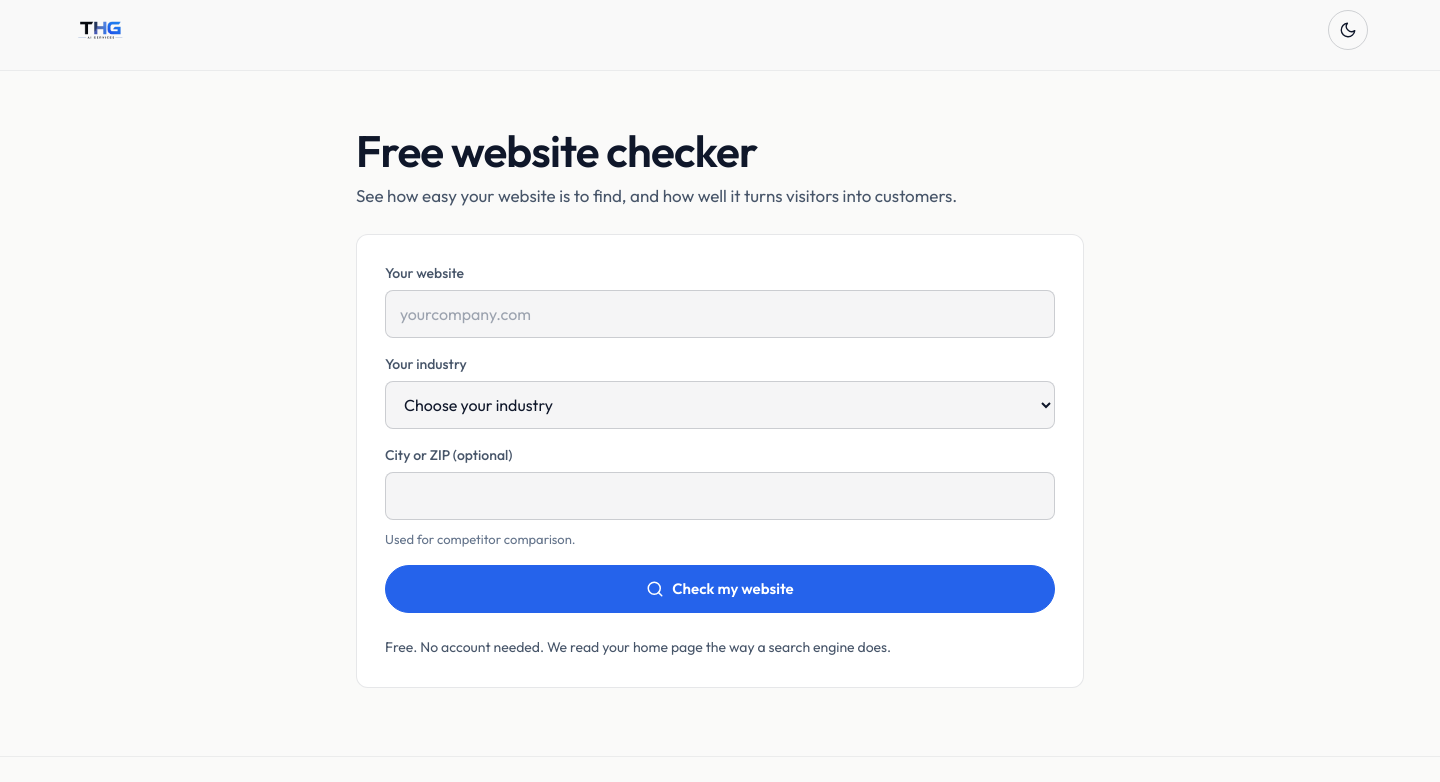
Scenario: WebsiteChecker page › start and grades › runs a scan with the chosen profile and shows the three grades, counts and categories only
Type "30189" into the field labelled "City or ZIP (optional)".
click(720, 496); type("30189")  # box [385,472,1055,520]
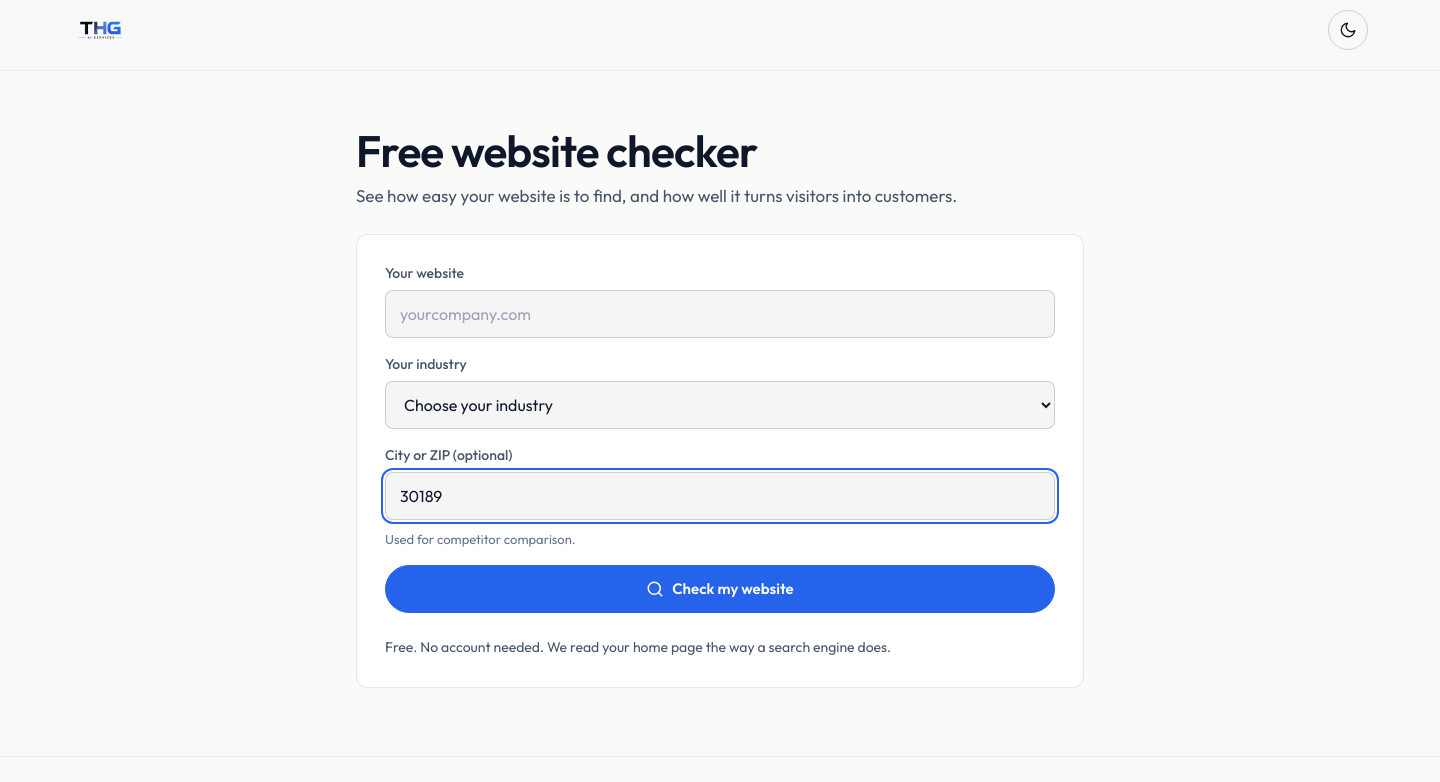
Type "example.com" into the field labelled "Your website".
click(720, 314); type("example.com")  # box [385,290,1055,338]
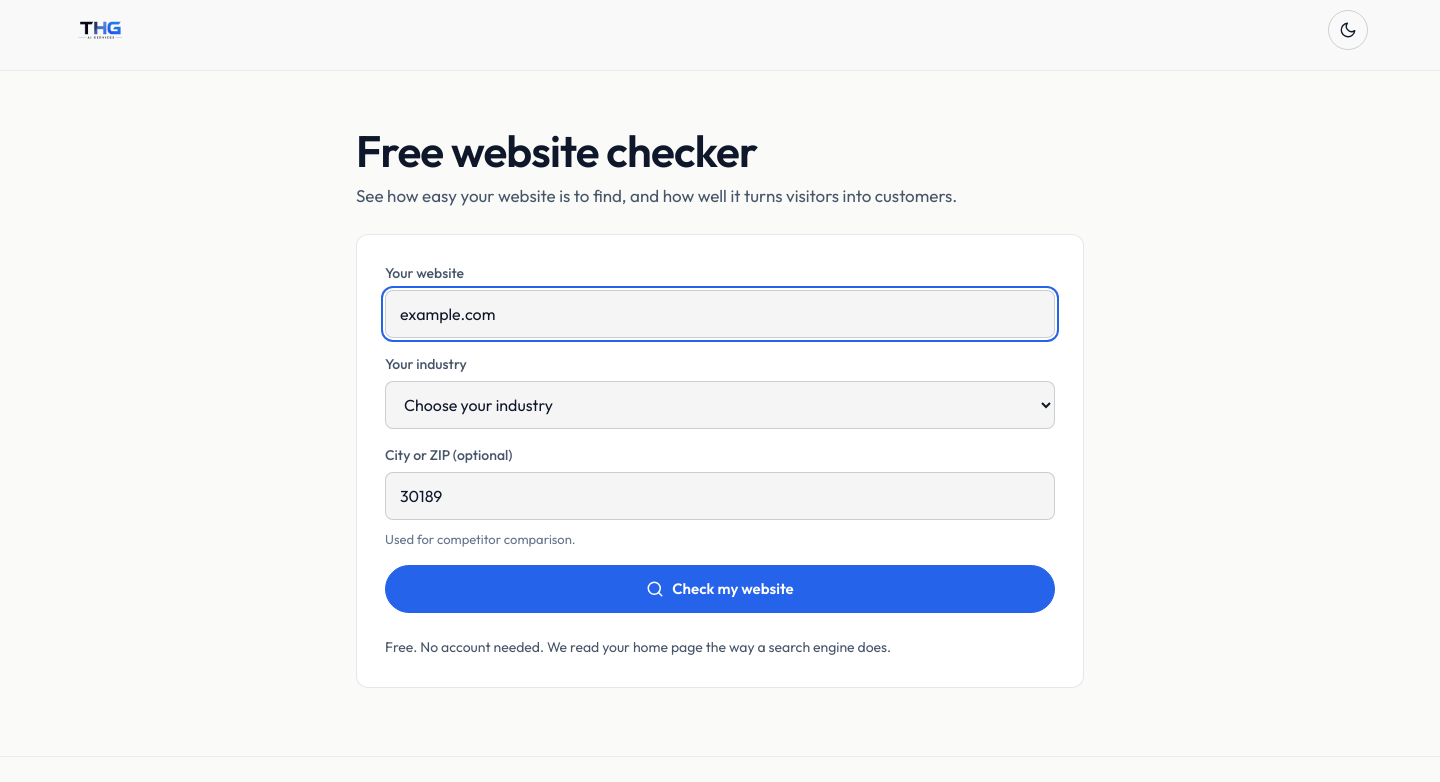
Select "Health and wellness (dental, medical, chiropractic, therapy, fitness, salon)" in the dropdown labelled "Your industry" at (720, 405), box [385,381,1055,429]
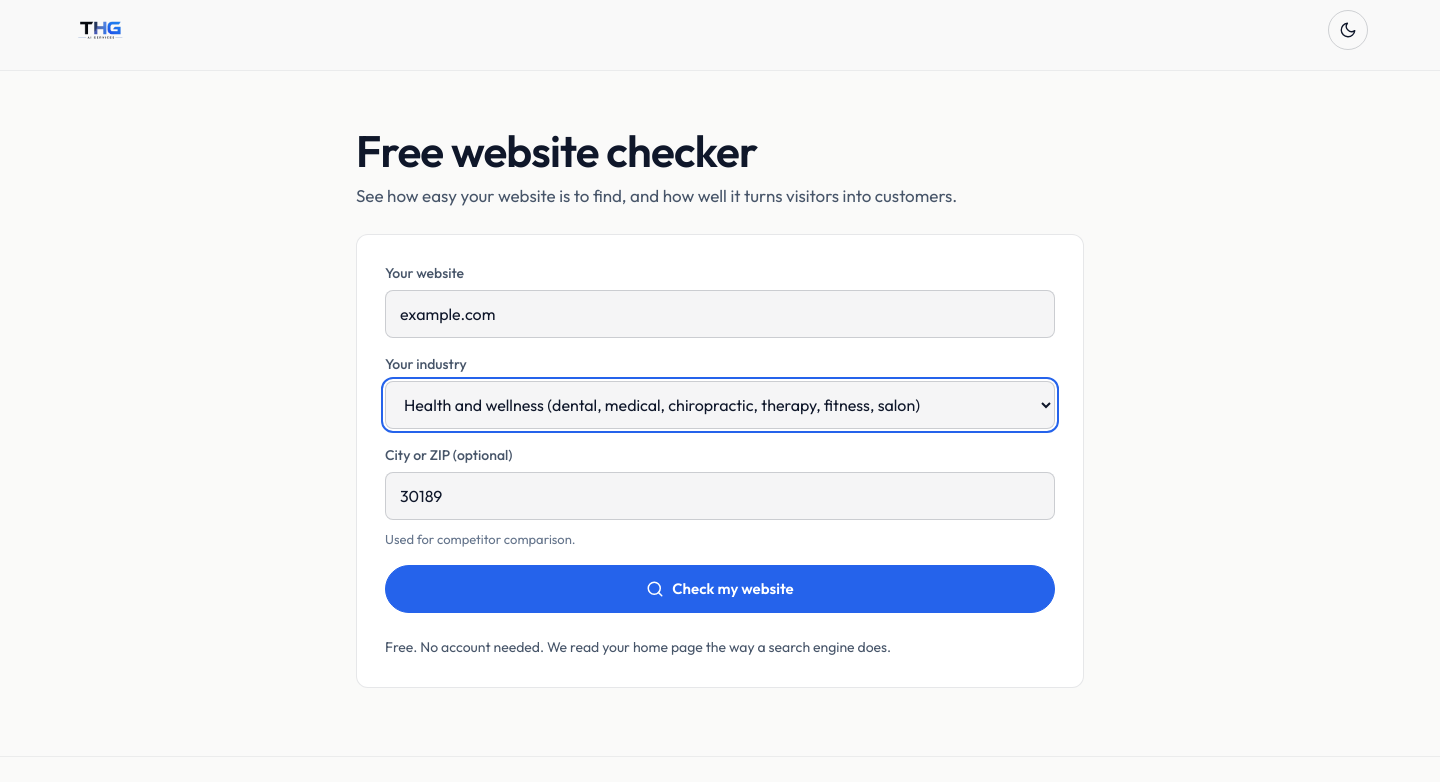
Click the button "Check my website".
click(720, 589)  # box [385,565,1055,613]
(page scrolled)
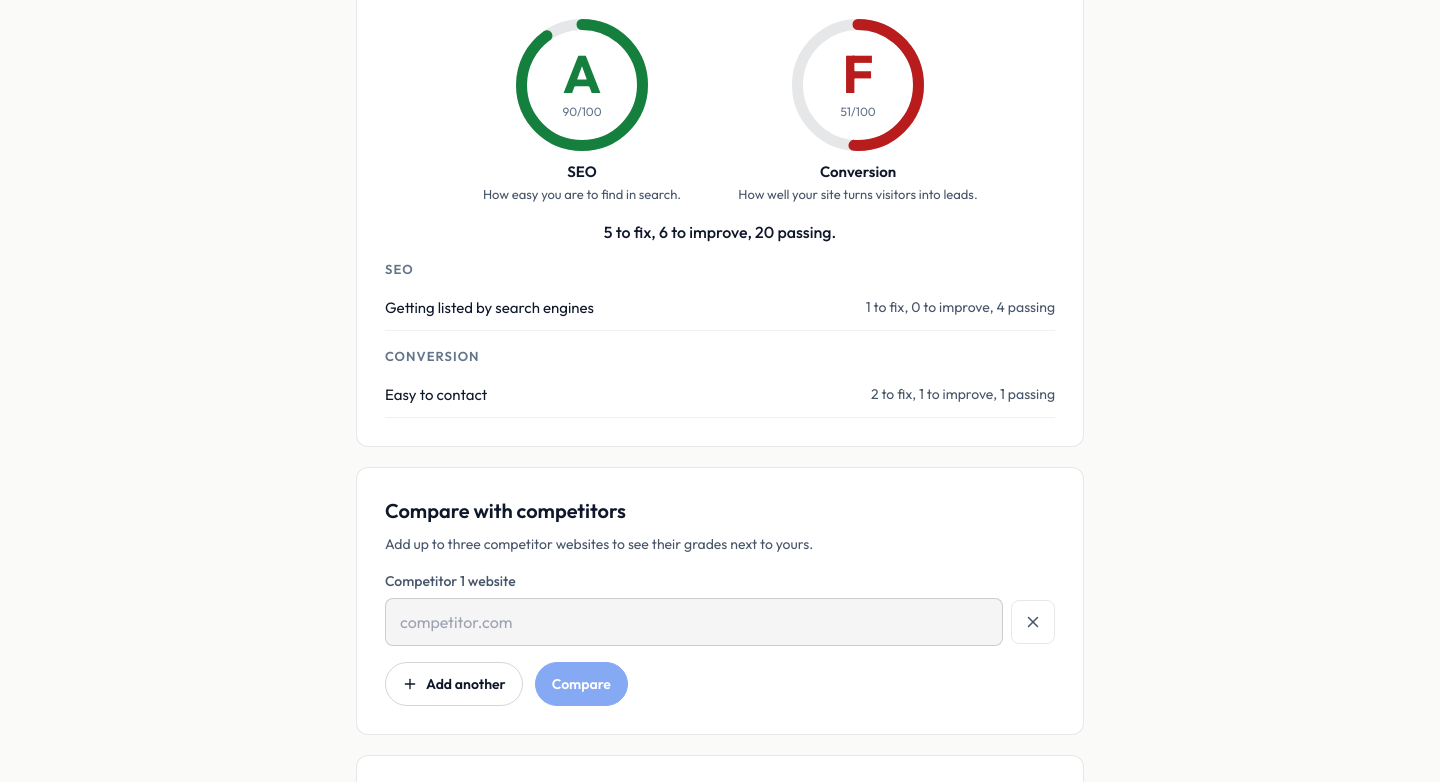
Result: the picture named "SEO grade A, 90 out of 100" is shown at [516,19,648,151]
Result: the picture named "Conversion grade F, 51 out of 100" is shown at [792,19,924,151]
Result: the text "How easy you are to find in search." is shown at [483,185,681,204]
